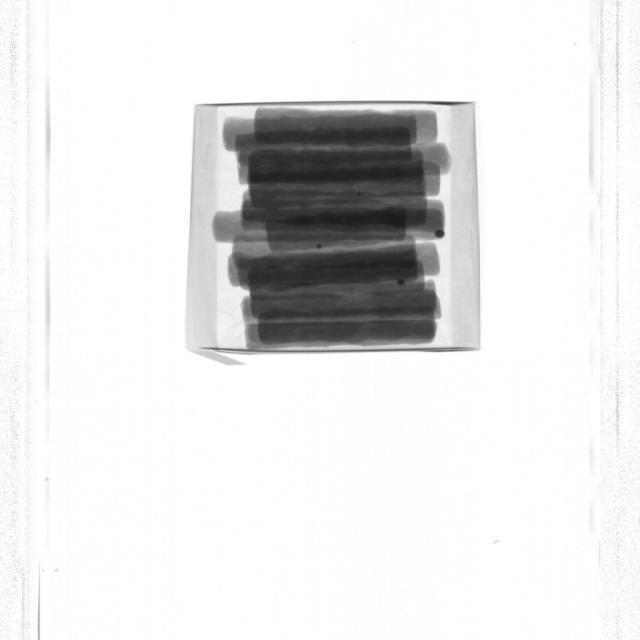ym: (435, 230, 445, 239), (398, 279, 406, 285), (316, 244, 323, 249), (358, 193, 362, 197)
